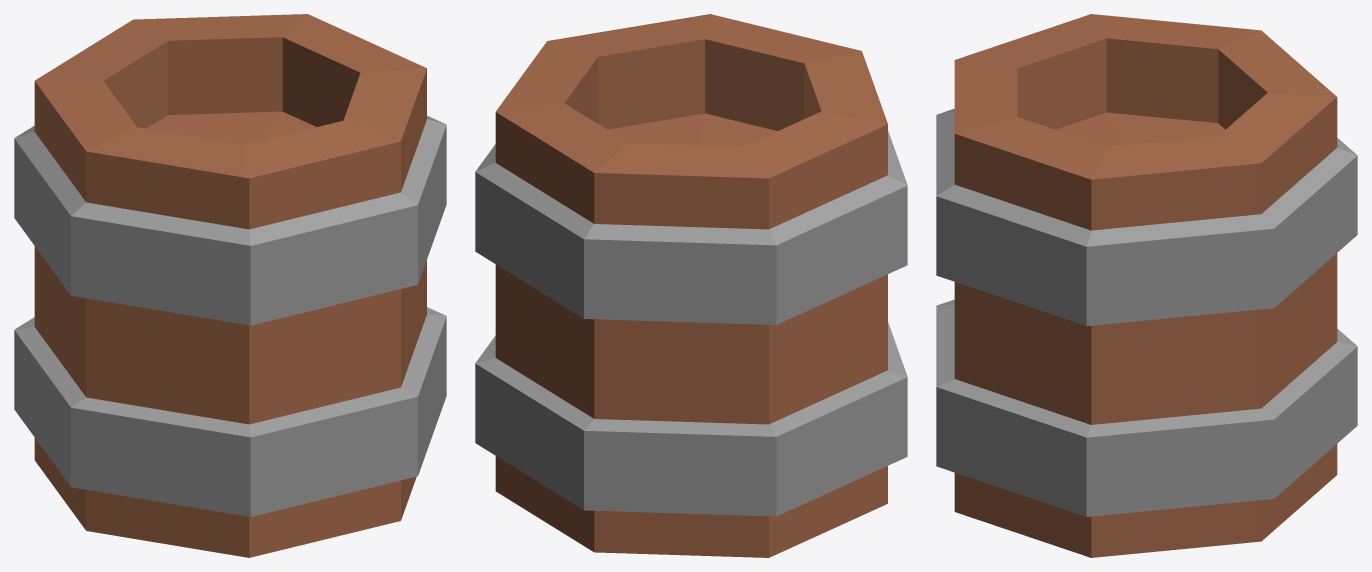
Rendered from Bucket.fbx.
3 views of the same model, side by side, from view 1: azimuth 30°, elevation 25°; view 2: azimuth 150°, elevation 25°; view 3: azimuth 270°, elevation 25° (orthographic).
Visible parts, largest first — view 1: Fisherman_lvl_1.002; view 2: Fisherman_lvl_1.002; view 3: Fisherman_lvl_1.002.
Part boxes in pixels (x1=…): Fisherman_lvl_1.002: x1=14, y1=14, x2=446, y2=557; Fisherman_lvl_1.002: x1=475, y1=14, x2=907, y2=557; Fisherman_lvl_1.002: x1=936, y1=14, x2=1357, y2=557.
Size of the model in its own units: 84.66 by 82.63 by 82.54.
